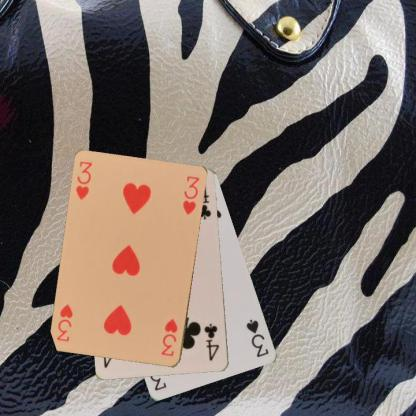3h: (74, 159, 94, 202), (159, 316, 179, 358)
3s: (244, 316, 270, 358)
4c: (202, 321, 220, 362)
